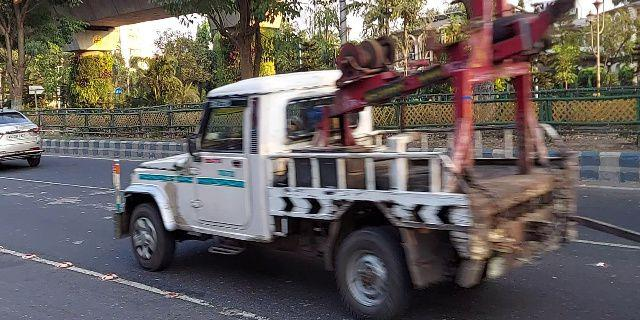Car: (1, 109, 46, 171)
Minitruck: (107, 60, 580, 317)
